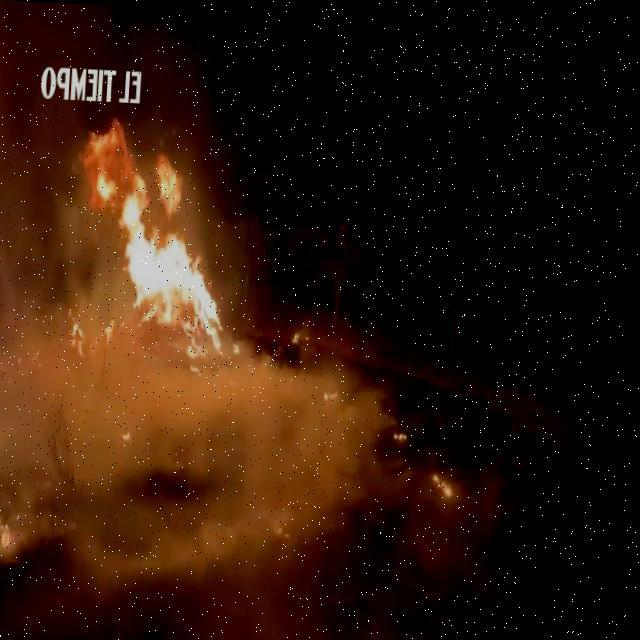Fire: (67, 117, 253, 375), (0, 510, 18, 543), (436, 468, 459, 492), (396, 424, 414, 439), (326, 383, 342, 397), (125, 427, 136, 438), (0, 419, 4, 446), (296, 328, 302, 340)
